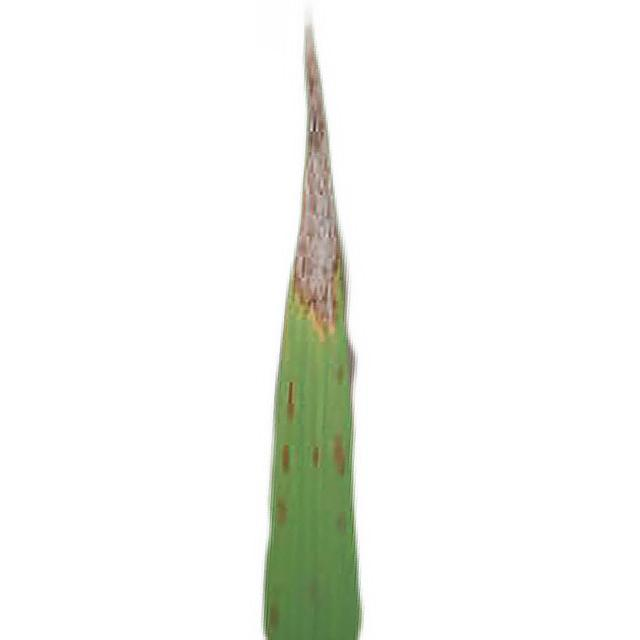Leaf scald: (178, 6, 462, 640)
